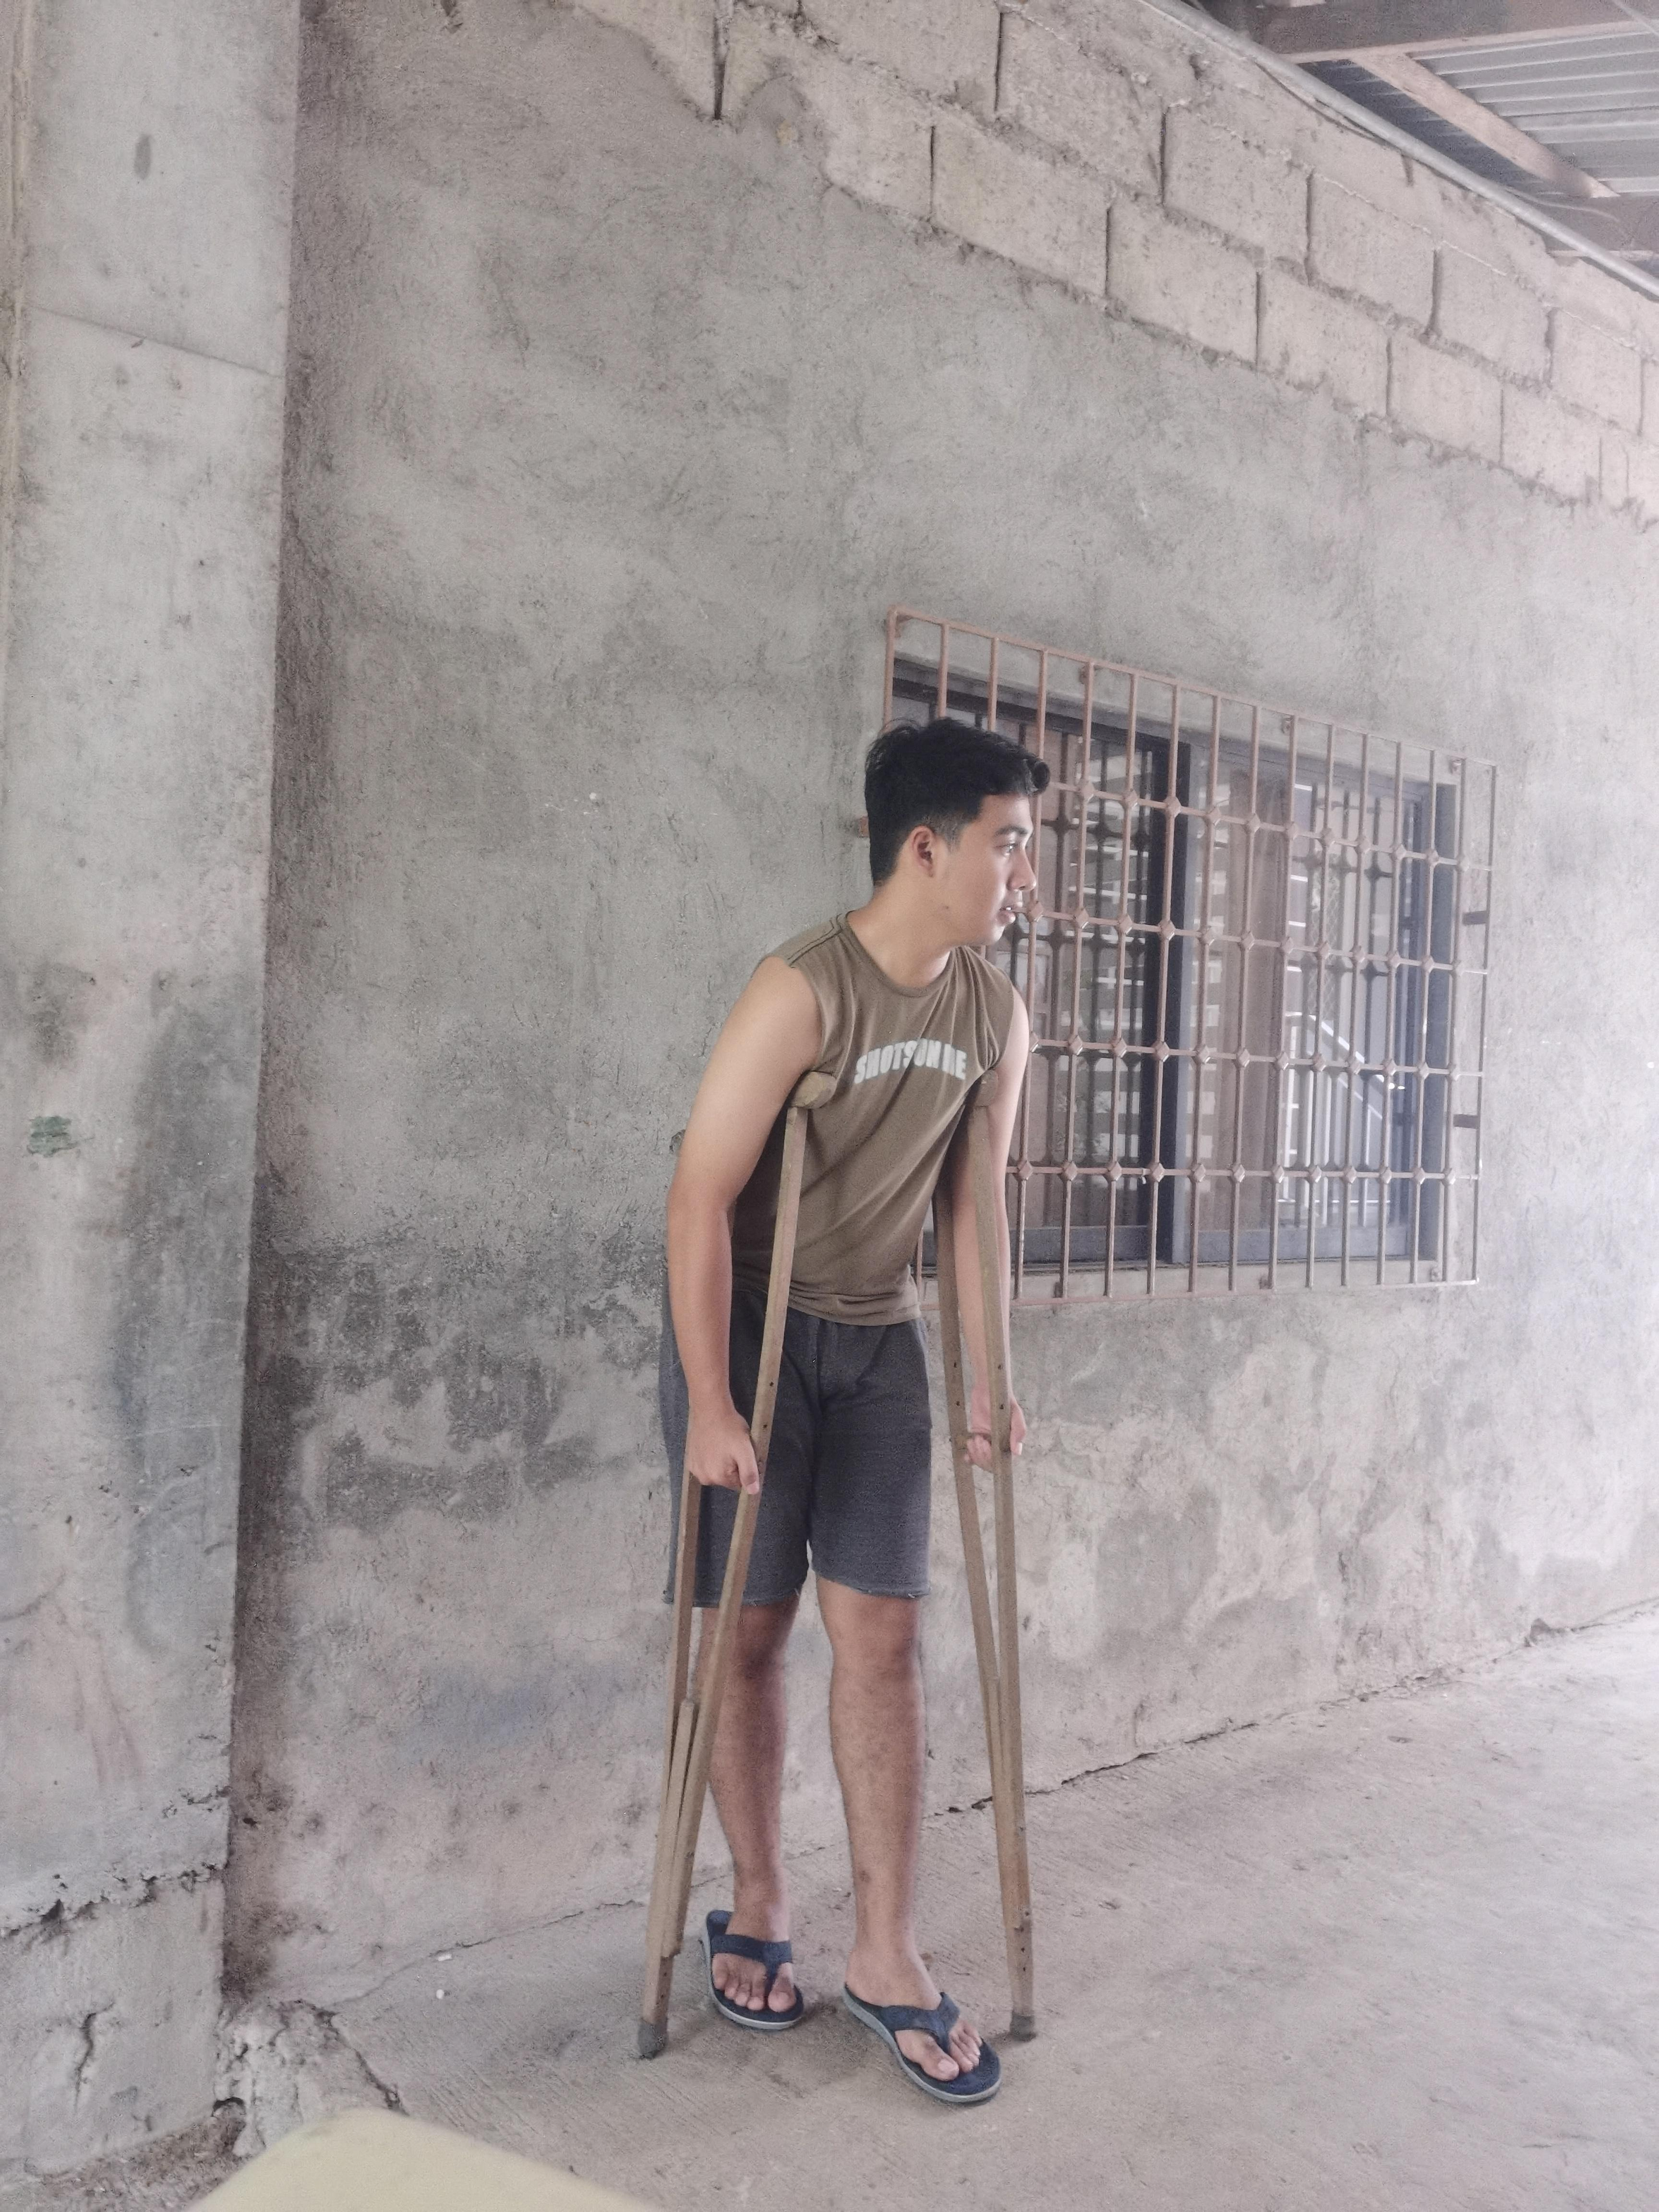crutches: (629, 697, 1066, 2120)
